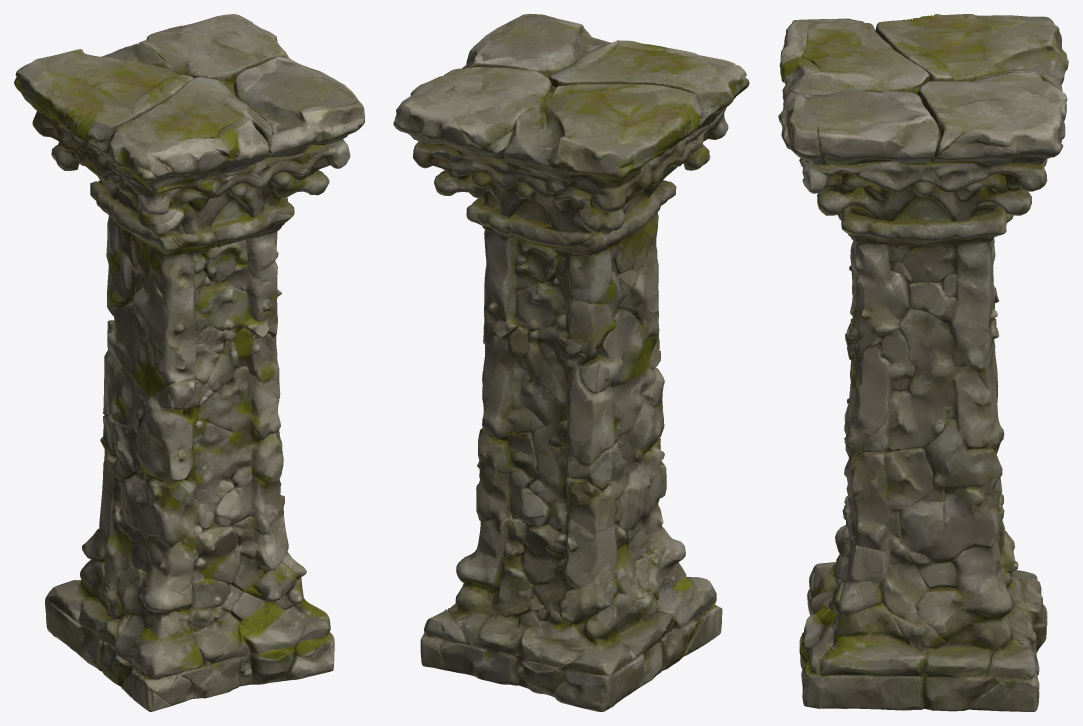
File: medieval stone pillar 3d model.glb
3 views of the same model, side by side, from view 1: azimuth 30°, elevation 25°; view 2: azimuth 150°, elevation 25°; view 3: azimuth 270°, elevation 25° (orthographic). The views are drawn at different scales.
Visible parts, largest first — view 1: tripo_node_653da43c-360a-4dc9-9d58-abe72a206753; view 2: tripo_node_653da43c-360a-4dc9-9d58-abe72a206753; view 3: tripo_node_653da43c-360a-4dc9-9d58-abe72a206753.
Part boxes in pixels (x1,y1,x2,y2): tripo_node_653da43c-360a-4dc9-9d58-abe72a206753: (14, 14, 364, 711); tripo_node_653da43c-360a-4dc9-9d58-abe72a206753: (393, 14, 749, 711); tripo_node_653da43c-360a-4dc9-9d58-abe72a206753: (778, 14, 1068, 711).
Size of the model in its own units: 0.4351 by 0.9778 by 0.4332.
1 material, 1 textured.
